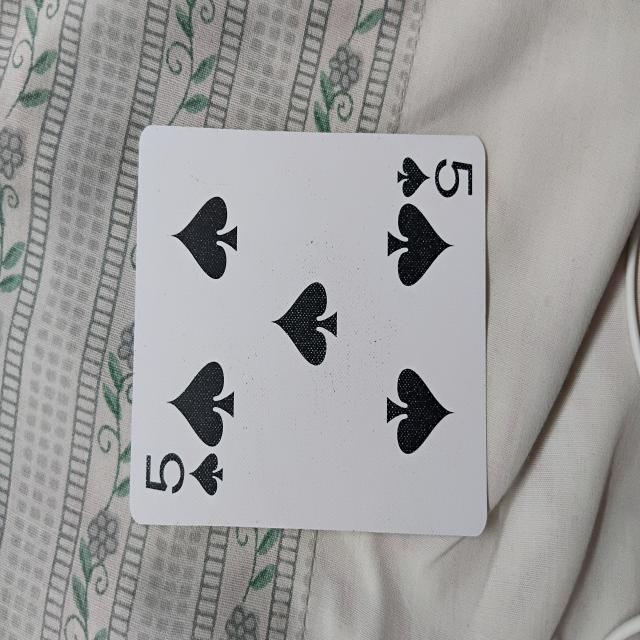5S: (136, 138, 488, 538)
